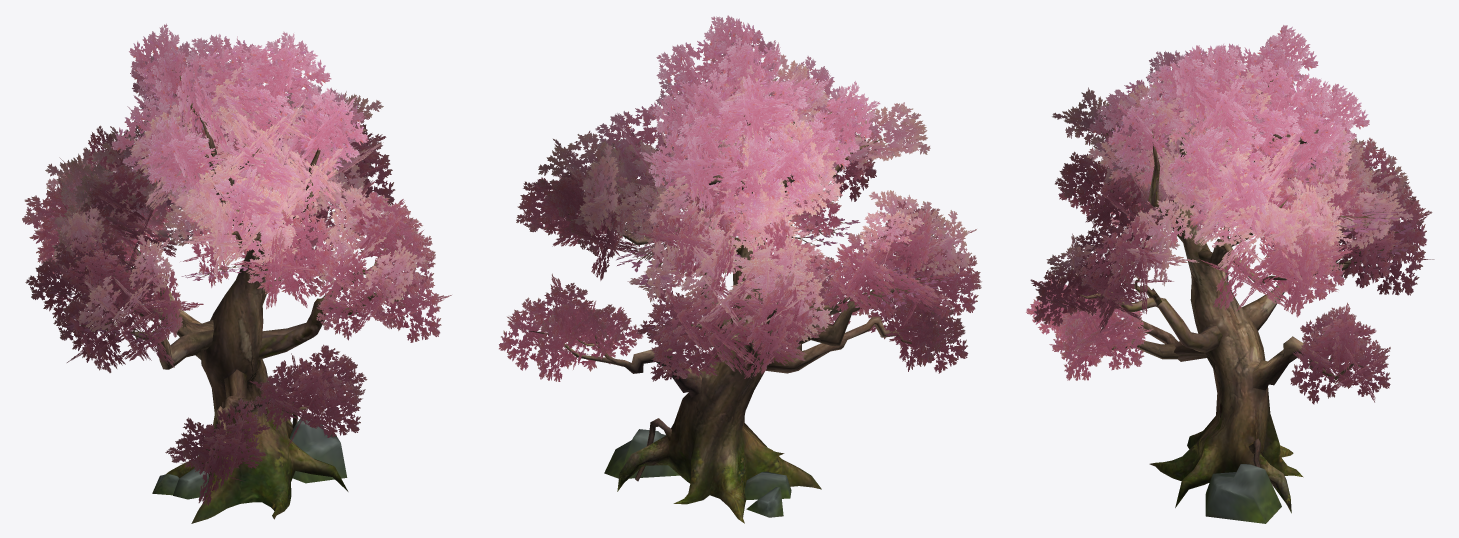
File: 2002_Plant_tree_05.FBX
The picture shows the model from 3 angles, left to right: view 1: azimuth 30°, elevation 25°; view 2: azimuth 150°, elevation 25°; view 3: azimuth 270°, elevation 25°; orthographic projection. The views are drawn at different scales.
Visible parts, largest first — view 1: 2002_Plant_taohua_01, 2002_Plant_shupi_04; view 2: 2002_Plant_taohua_01, 2002_Plant_shupi_04; view 3: 2002_Plant_taohua_01, 2002_Plant_shupi_04.
Part boxes in pixels (x1,y1,x2,y2): 2002_Plant_taohua_01: (22,23,451,505); 2002_Plant_shupi_04: (63,70,404,523); 2002_Plant_taohua_01: (499,15,981,381); 2002_Plant_shupi_04: (527,88,912,523); 2002_Plant_taohua_01: (1026,25,1434,404); 2002_Plant_shupi_04: (1059,73,1400,523).
Bounding box in the file's own units: 1063 × 1175 × 1032.
